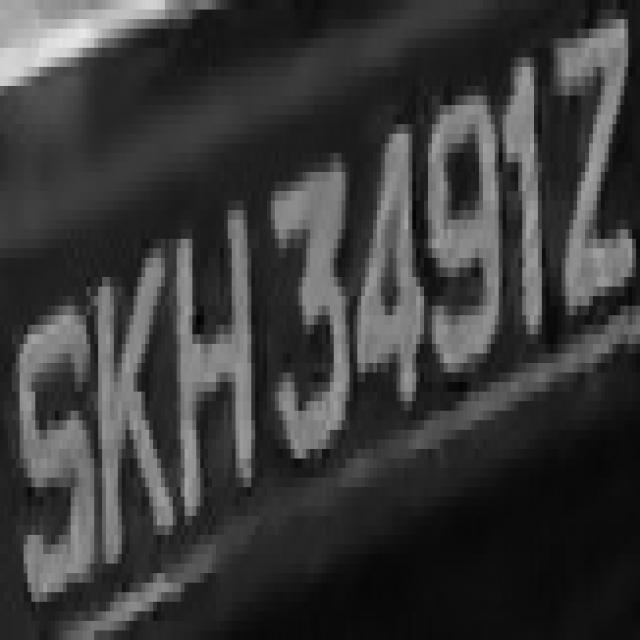1: (507, 19, 558, 382)
3: (260, 143, 354, 468)
4: (345, 67, 432, 449)
9: (420, 76, 511, 411)
H: (165, 153, 259, 535)
K: (86, 220, 177, 573)
S: (12, 248, 86, 621)
Z: (546, 9, 640, 344)
